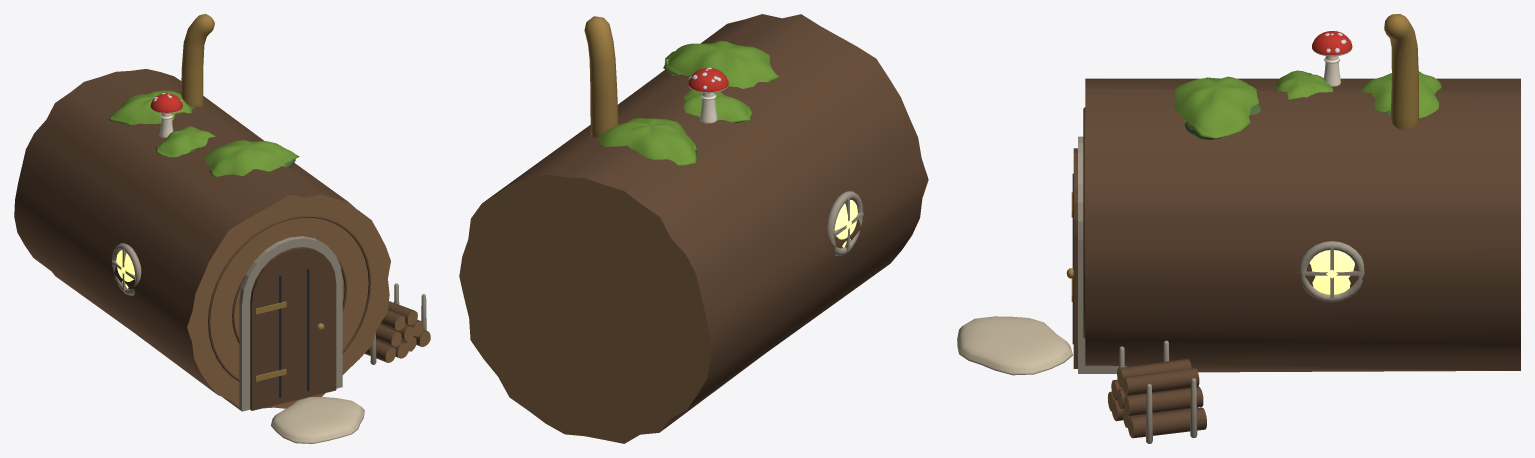
The model's file is sh_log_house.fbx.
The picture shows the model from 3 angles, left to right: view 1: azimuth 30°, elevation 25°; view 2: azimuth 150°, elevation 25°; view 3: azimuth 270°, elevation 25°; orthographic projection. The views are drawn at different scales.
Parts seen in each view (by area): view 1: SH_Log_House; view 2: SH_Log_House; view 3: SH_Log_House.
Part boxes in pixels (left/top/right/bottom): SH_Log_House: left=14, top=14, right=430, bottom=443; SH_Log_House: left=459, top=14, right=928, bottom=443; SH_Log_House: left=957, top=14, right=1520, bottom=443.
Bounding box in the file's own units: 132 × 140 × 194.
